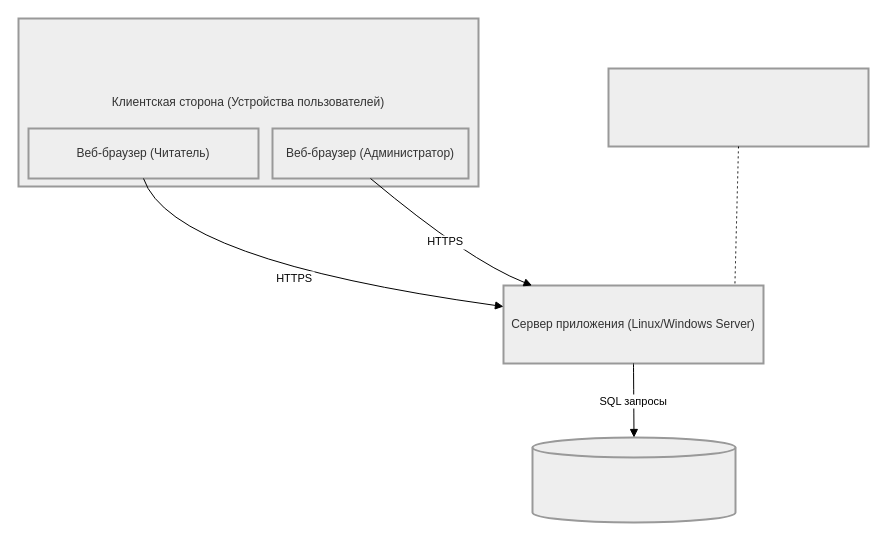
Image size: 886x540. Some labels were removed from this diagram. Here are the shapes that lost their labels. From the top down, the centre of each, then its label:
(x=738, y=107): Программный модуль каталога
(x=633, y=479): База данных (PostgreSQL)
